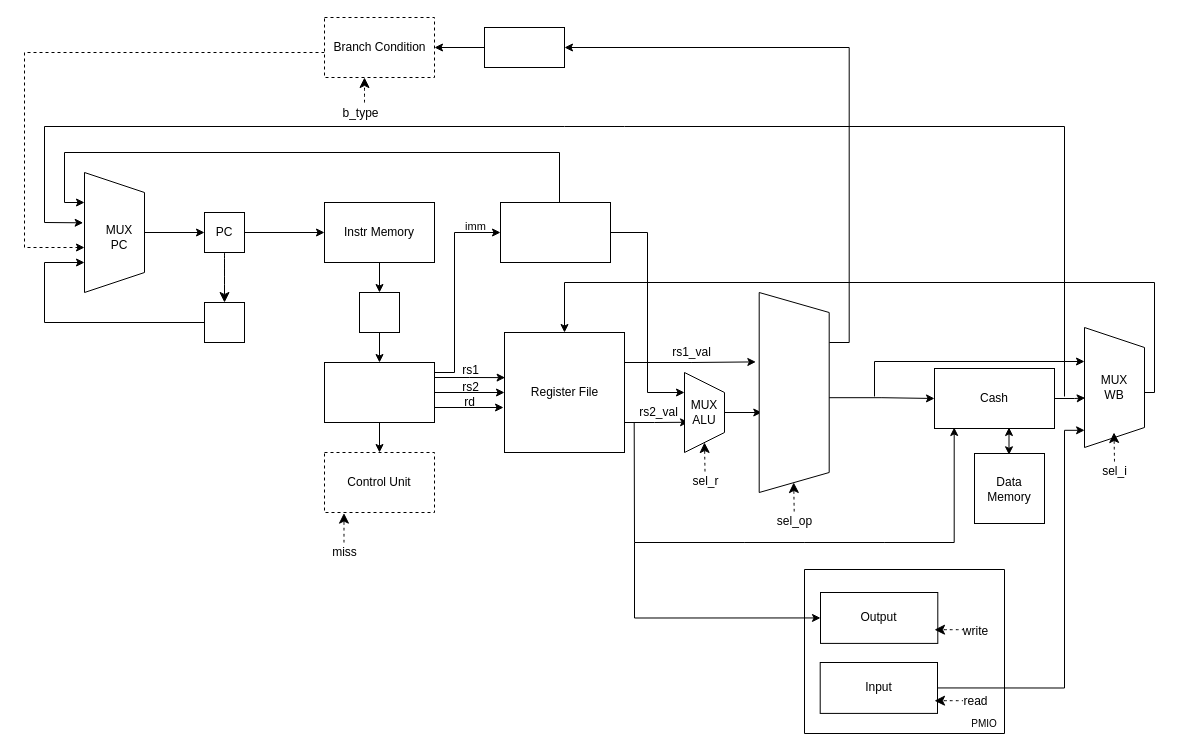
Some shapes in this 1192 by 751 pixel diagram are drawn without their labels. Each missing label, with the centre of its shape:
ALU: the point at 793,392
IMM Generator: the point at 555,232
Instr Decoder: the point at 379,392
IR: the point at 379,312
pc + 4: the point at 224,322
SR: the point at 524,47
